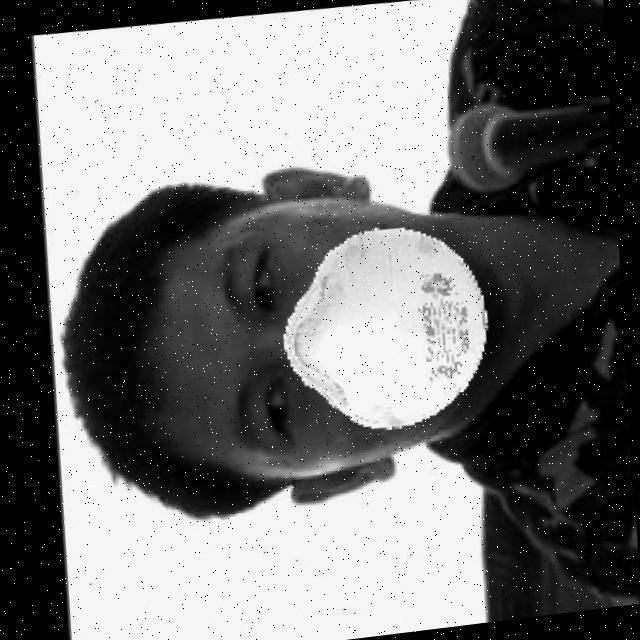mask: (273, 233, 505, 436)
no_gloves: (60, 212, 218, 526)
